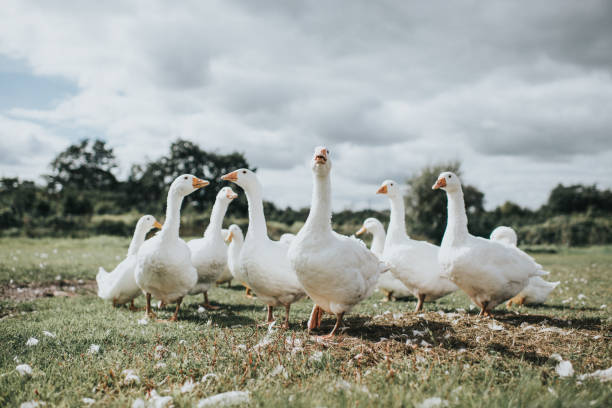goose: (429, 166, 551, 322), (288, 143, 378, 344), (219, 167, 302, 332), (134, 172, 212, 327), (373, 177, 455, 315), (91, 210, 165, 310), (186, 184, 239, 294), (224, 222, 255, 298), (349, 214, 389, 254)
